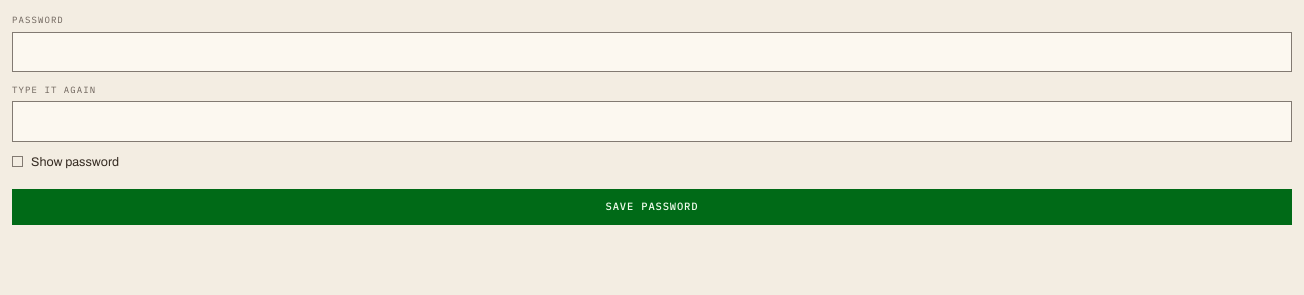
new password — typed twice, with Show › sends a matching password once
The width and height of the screenshot is (1304, 295).
In the password field labelled "Password": (652, 52) 12,32 -> 1292,72, type "Same-Pass-1!"
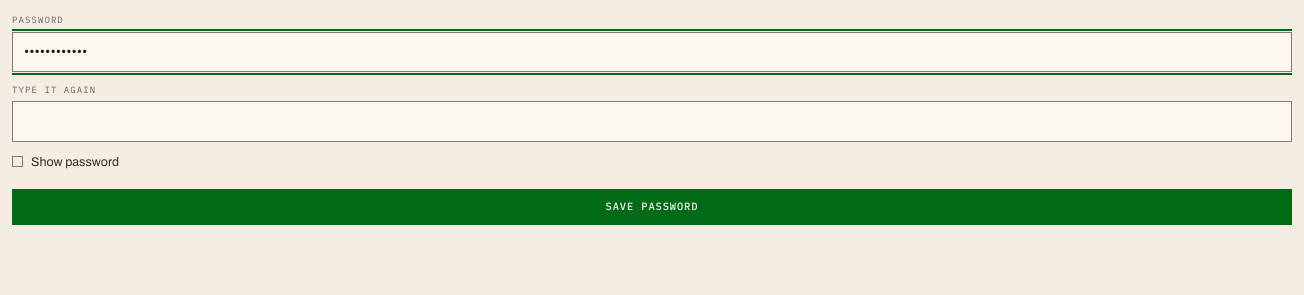
In the password field labelled "Type it again": (652, 121) 12,101 -> 1292,142, type "Same-Pass-1!"
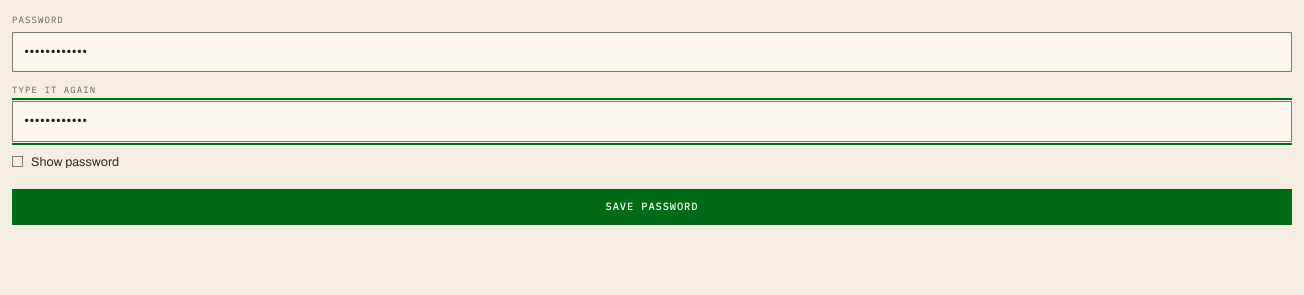
Click the button "Save password": (652, 207) 12,189 -> 1292,225
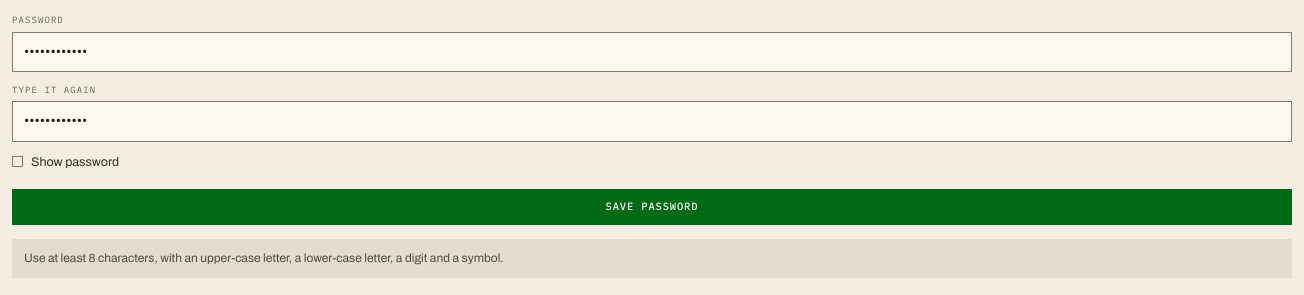
Result: the message shows "at least 8 characters" at 24,251 -> 504,265
